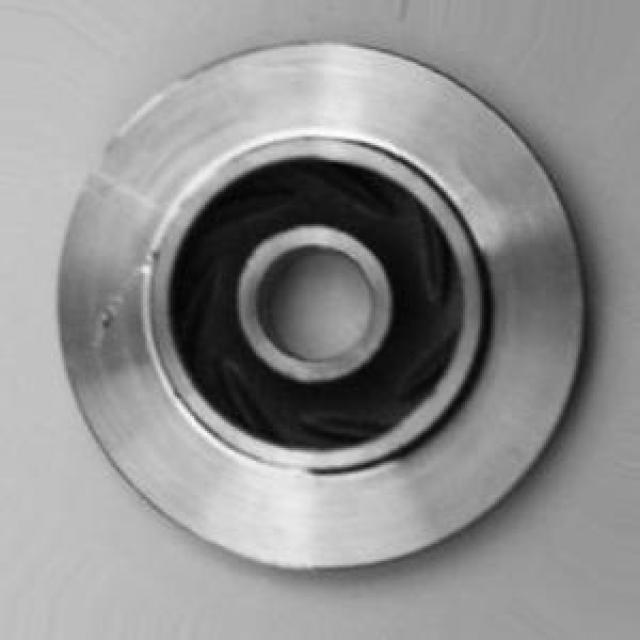Defect: (92, 290, 126, 345)
